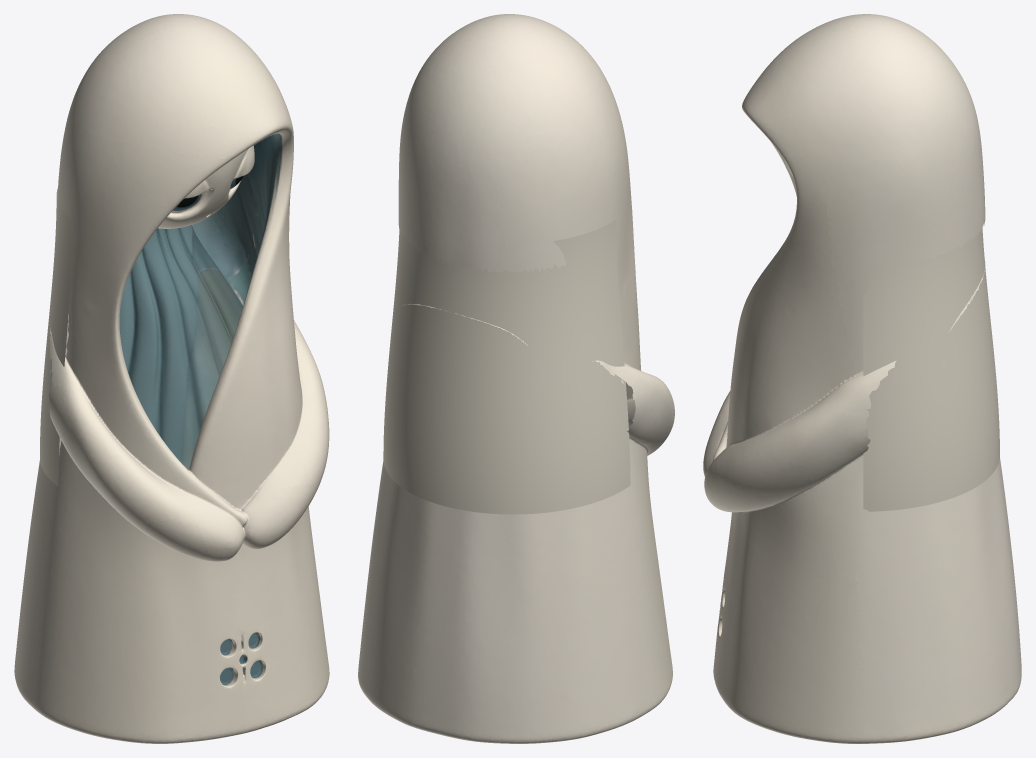
Rendered from model-repaired.glb.
3 renders of one model, left to right at view 1: azimuth 30°, elevation 25°; view 2: azimuth 150°, elevation 25°; view 3: azimuth 270°, elevation 25°, orthographic.
Parts seen in each view (by area): view 1: Mesh_0, Palari005_BackBandShell; view 2: Mesh_0, Palari005_BackBandShell; view 3: Mesh_0, Palari005_BackBandShell.
Boxes of the visible parts, box(x1,y1,x2,y2) form: Mesh_0: box(14, 14, 329, 743); Palari005_BackBandShell: box(40, 188, 255, 486); Mesh_0: box(358, 14, 674, 743); Palari005_BackBandShell: box(383, 219, 630, 514); Mesh_0: box(703, 14, 1021, 743); Palari005_BackBandShell: box(863, 228, 999, 511).
Bounding box in the file's own units: 0.8259 × 1.9 × 0.827.
2 materials, 1 textured.
